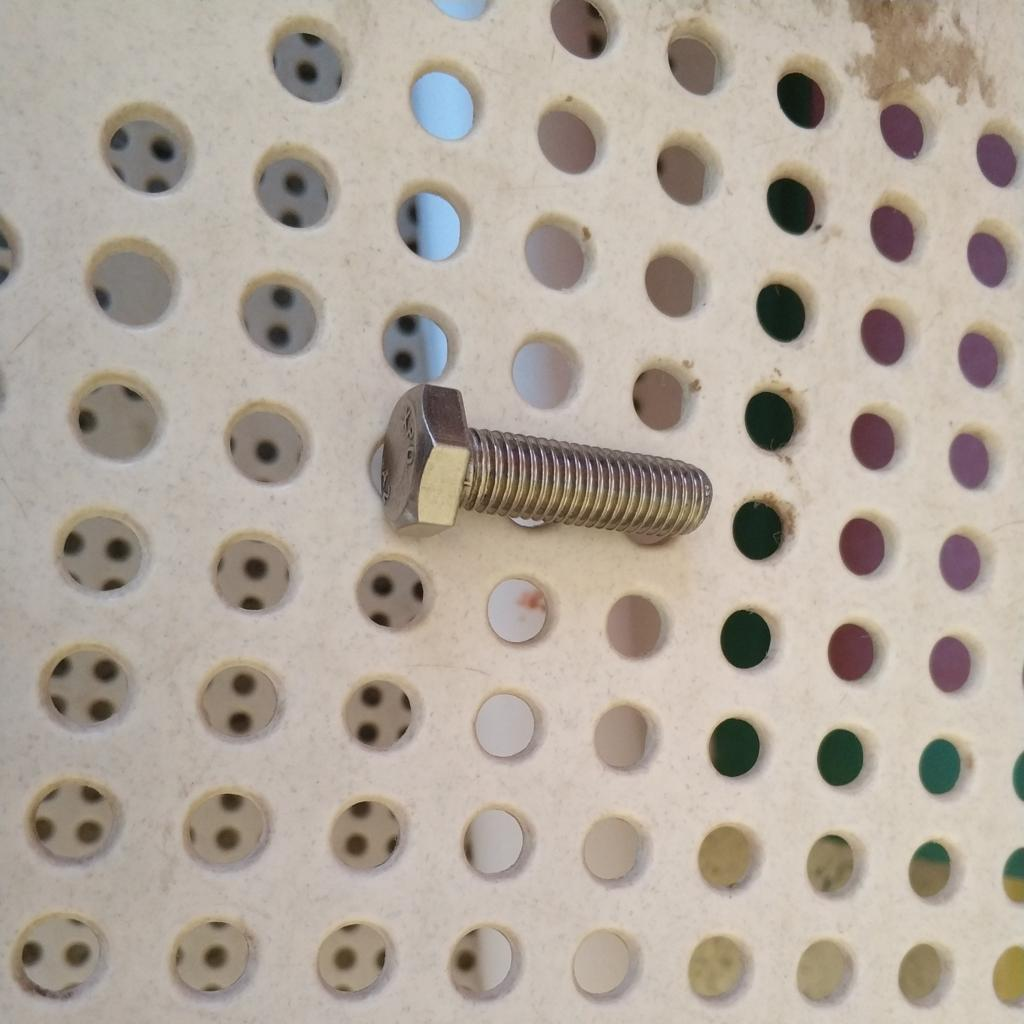screwtype2silver: (371, 375, 722, 553)
